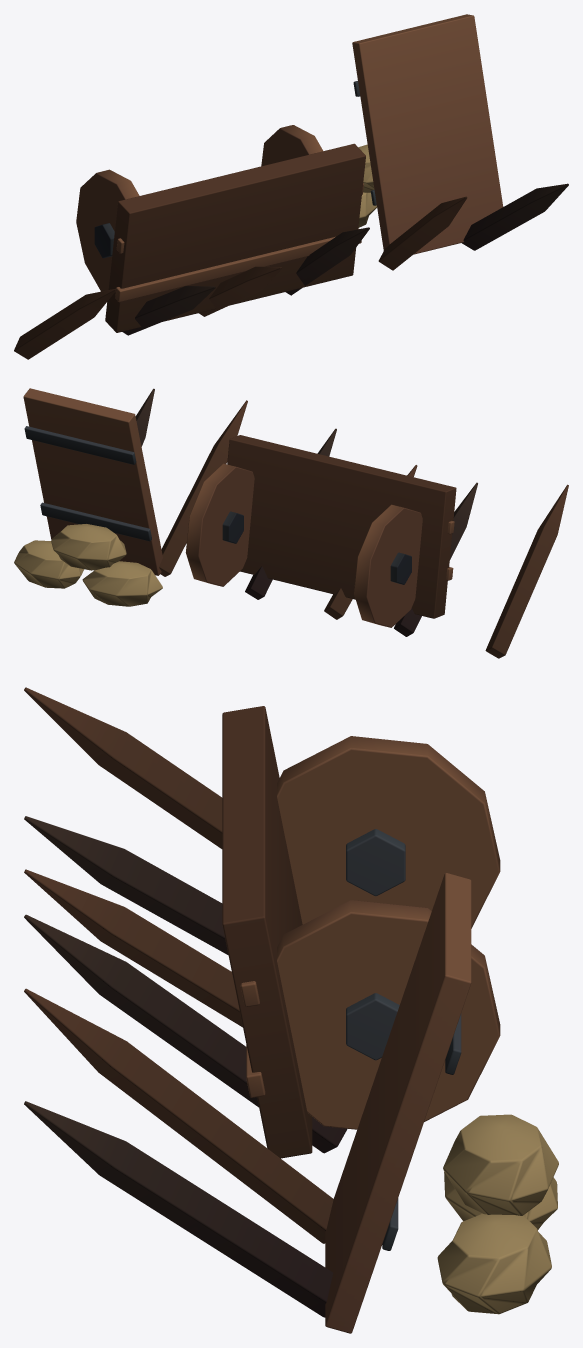
The model's file is ash_barricade.glb.
The picture shows the model from 3 angles, top to bottom: view 1: azimuth 30°, elevation 25°; view 2: azimuth 150°, elevation 25°; view 3: azimuth 270°, elevation 25°; orthographic projection. The views are drawn at different scales.
Parts seen in each view (by area): view 1: ash_barricade; view 2: ash_barricade; view 3: ash_barricade.
Part boxes in pixels (left/top/right/bottom): ash_barricade: left=14, top=14, right=568, bottom=359; ash_barricade: left=14, top=388, right=568, bottom=658; ash_barricade: left=24, top=687, right=558, bottom=1333.
Size of the model in its own units: 3.33 by 1.31 by 1.71.
